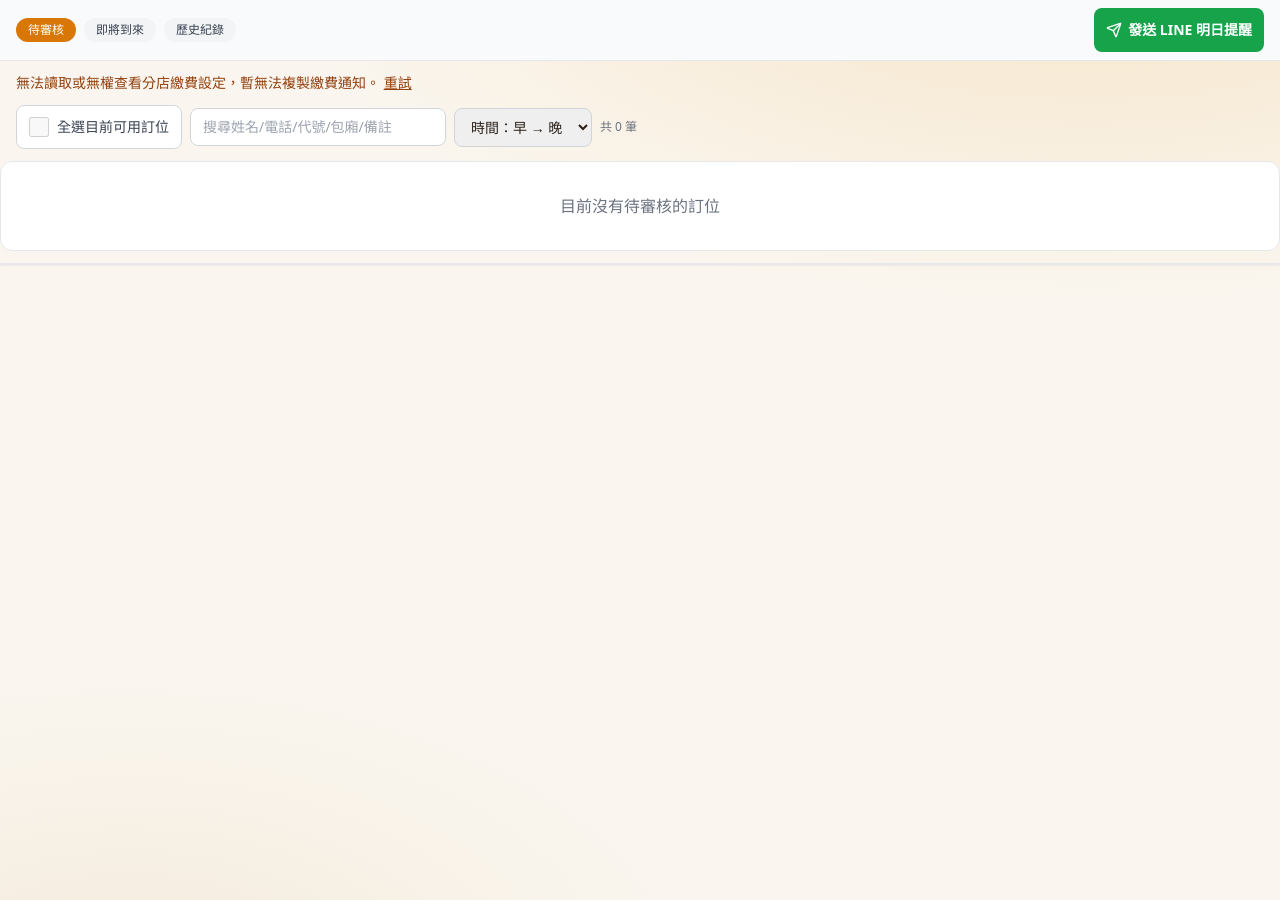
it: ReservationList server-scoped lists › keeps a past, still-confirmed booking under 即將到來 with the 沒來 action (#469)
Click the button "即將到來" at (120, 30), box [84,18,156,42]
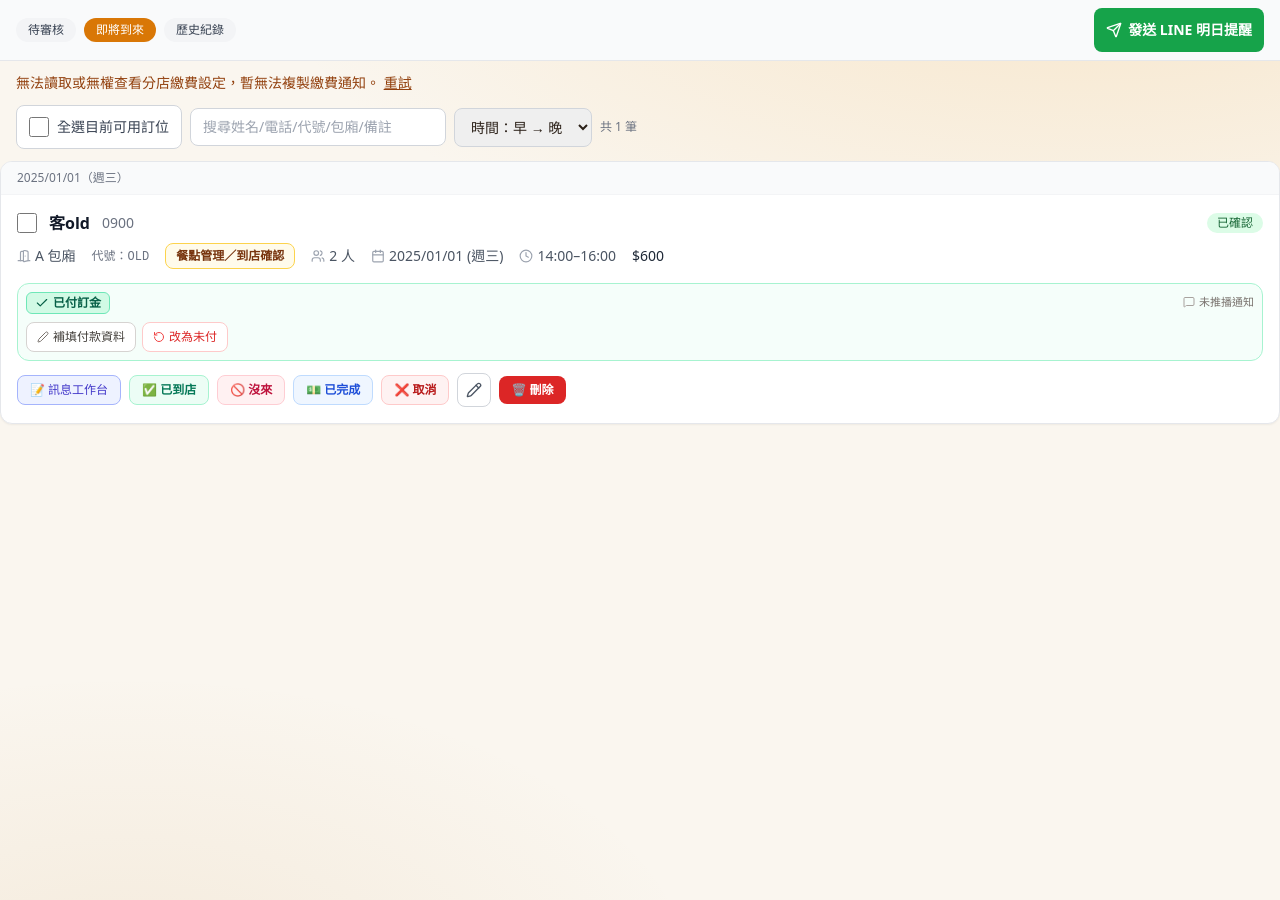
Now the text "OLD" is shown, box [128,250,149,264]
Now the button "🚫 沒來" is shown, box [217,375,285,405]
